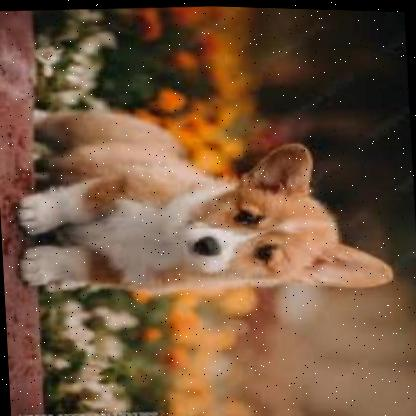dog: (10, 89, 394, 308)
